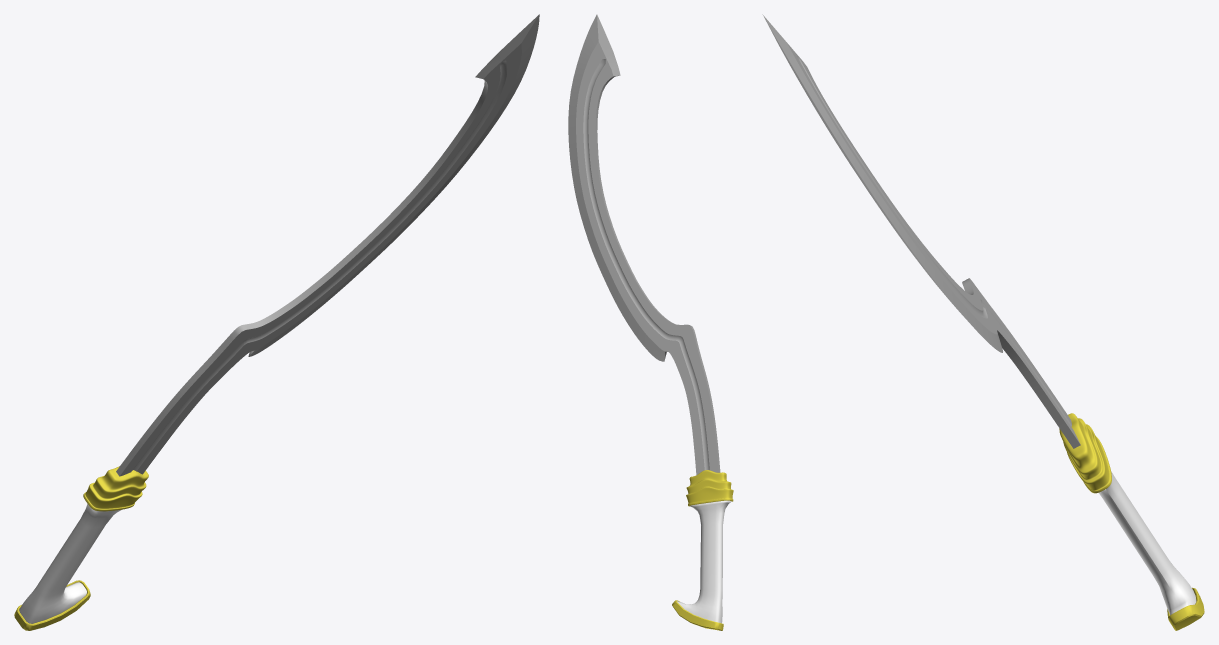
Rendered from khopesh.glb.
3 renders of one model, left to right at view 1: azimuth 30°, elevation 25°; view 2: azimuth 150°, elevation 25°; view 3: azimuth 270°, elevation 25°, orthographic. The views are drawn at different scales.
Visible parts, largest first — view 1: khopesh; view 2: khopesh; view 3: khopesh.
Boxes of the visible parts, x1,y1,x2,y2 form: khopesh: [14, 14, 539, 630]; khopesh: [568, 14, 733, 630]; khopesh: [762, 14, 1204, 630].
Bounding box in the file's own units: 0.5668 × 0.9948 × 0.4973.
